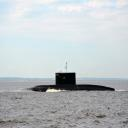submarine: (23, 72, 116, 93)
